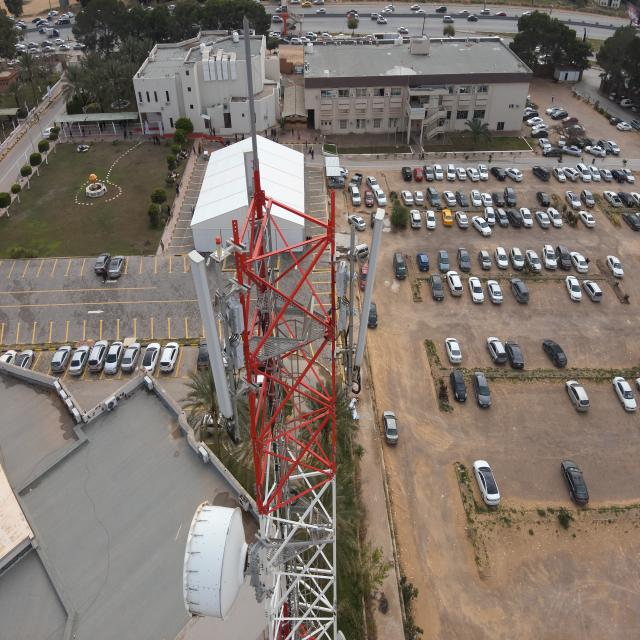Ground Based: (187, 19, 383, 640)
